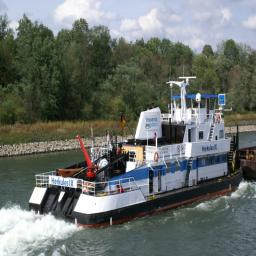tugboat: (26, 64, 248, 232)
